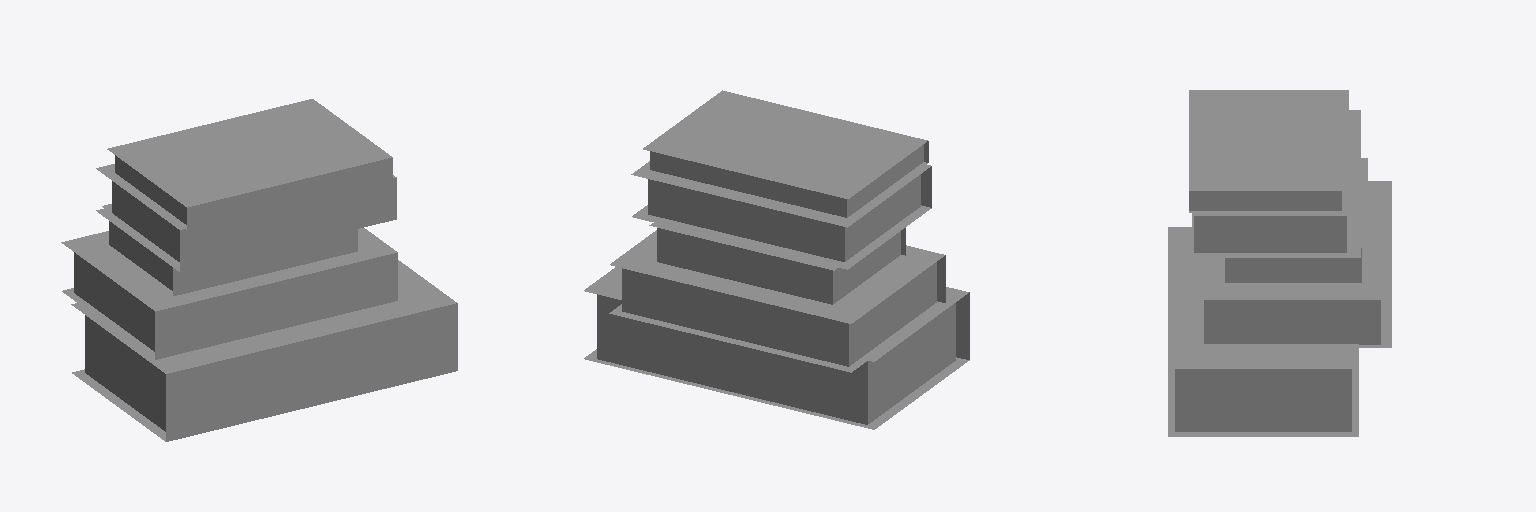
Rendered from Books.obj.
3 views of the same model, side by side, from view 1: azimuth 30°, elevation 25°; view 2: azimuth 150°, elevation 25°; view 3: azimuth 270°, elevation 25° (orthographic).
Visible parts, largest first — view 1: Cube_Cube.001, Cube.005_Cube.006, Cube.001_Cube.002, Cube.004_Cube.005, Cube.008_Cube.012, Cube.002_Cube.003, Cube.003_Cube.011, Cube.007_Cube.008, Cube.009_Cube.010, Cube.006_Cube.007; view 2: Cube.008_Cube.012, Cube.005_Cube.006, Cube.003_Cube.011, Cube.007_Cube.008, Cube.009_Cube.010, Cube.001_Cube.002, Cube.006_Cube.007, Cube_Cube.001, Cube.004_Cube.005, Cube.002_Cube.003; view 3: Cube.005_Cube.006, Cube.008_Cube.012, Cube_Cube.001, Cube.003_Cube.011, Cube.001_Cube.002, Cube.007_Cube.008, Cube.009_Cube.010, Cube.004_Cube.005, Cube.006_Cube.007, Cube.002_Cube.003.
Boxes of the visible parts, x1=… form: Cube_Cube.001: x1=71, y1=260, x2=457, y2=441; Cube.005_Cube.006: x1=107, y1=99, x2=392, y2=229; Cube.001_Cube.002: x1=61, y1=228, x2=397, y2=359; Cube.004_Cube.005: x1=96, y1=164, x2=396, y2=271; Cube.008_Cube.012: x1=85, y1=315, x2=165, y2=431; Cube.002_Cube.003: x1=102, y1=204, x2=357, y2=295; Cube.003_Cube.011: x1=74, y1=252, x2=154, y2=351; Cube.007_Cube.008: x1=112, y1=181, x2=179, y2=261; Cube.009_Cube.010: x1=109, y1=221, x2=172, y2=290; Cube.006_Cube.007: x1=115, y1=155, x2=186, y2=224; Cube.008_Cube.012: x1=597, y1=294, x2=955, y2=424; Cube.005_Cube.006: x1=642, y1=90, x2=928, y2=221; Cube.003_Cube.011: x1=622, y1=262, x2=936, y2=366; Cube.007_Cube.008: x1=648, y1=174, x2=920, y2=261; Cube.009_Cube.010: x1=657, y1=228, x2=900, y2=304; Cube.001_Cube.002: x1=609, y1=230, x2=945, y2=372; Cube.006_Cube.007: x1=650, y1=144, x2=923, y2=217; Cube_Cube.001: x1=584, y1=267, x2=969, y2=429; Cube.004_Cube.005: x1=631, y1=161, x2=931, y2=269; Cube.002_Cube.003: x1=649, y1=223, x2=905, y2=307; Cube.005_Cube.006: x1=1189, y1=90, x2=1348, y2=212; Cube.008_Cube.012: x1=1175, y1=369, x2=1351, y2=431; Cube_Cube.001: x1=1168, y1=227, x2=1358, y2=436; Cube.003_Cube.011: x1=1204, y1=300, x2=1380, y2=344; Cube.001_Cube.002: x1=1203, y1=181, x2=1391, y2=347; Cube.007_Cube.008: x1=1194, y1=216, x2=1346, y2=252; Cube.009_Cube.010: x1=1225, y1=248, x2=1361, y2=282; Cube.004_Cube.005: x1=1192, y1=110, x2=1360, y2=257; Cube.006_Cube.007: x1=1189, y1=191, x2=1341, y2=210; Cube.002_Cube.003: x1=1224, y1=158, x2=1367, y2=285.
Bounding box in the file's own units: 2.15 × 1.55 × 1.43.